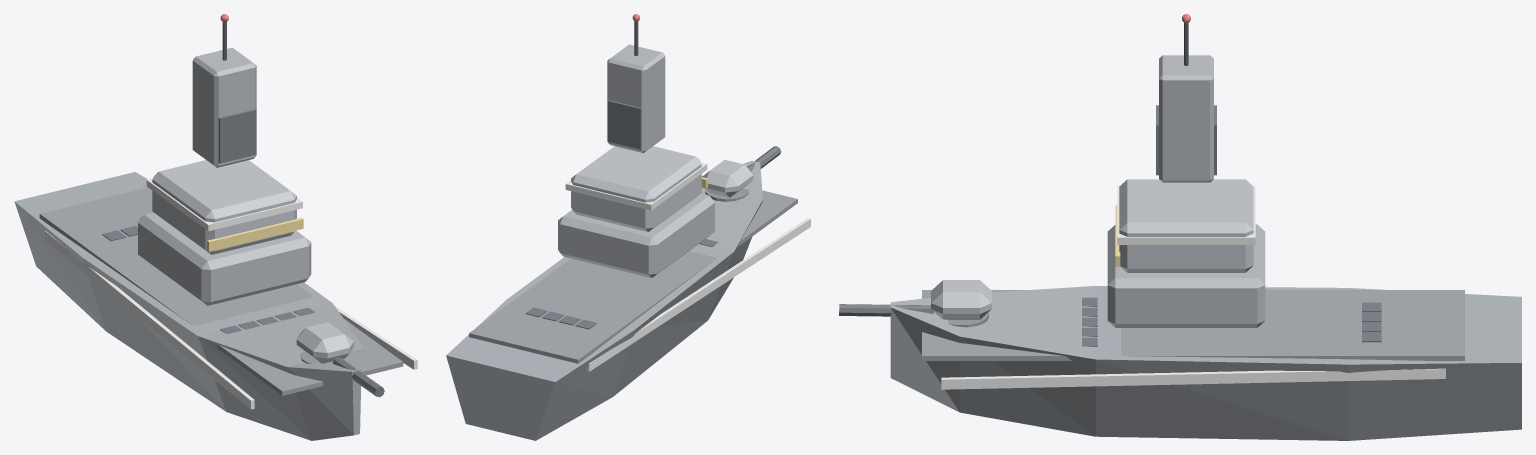
File: cruiser.glb
3 renders of one model, left to right at view 1: azimuth 30°, elevation 25°; view 2: azimuth 150°, elevation 25°; view 3: azimuth 270°, elevation 25°, orthographic. The views are drawn at different scales.
Parts seen in each view (by area): view 1: main, turret; view 2: main, turret; view 3: main, turret.
Boxes of the visible parts, x1=… form: main: x1=14, y1=14, x2=417, y2=440; turret: x1=296, y1=322, x2=384, y2=397; main: x1=446, y1=14, x2=810, y2=440; turret: x1=702, y1=146, x2=781, y2=201; main: x1=890, y1=14, x2=1521, y2=440; turret: x1=839, y1=280, x2=991, y2=327.
Bounding box in the file's own units: 0.546 × 1.12 × 1.73.
